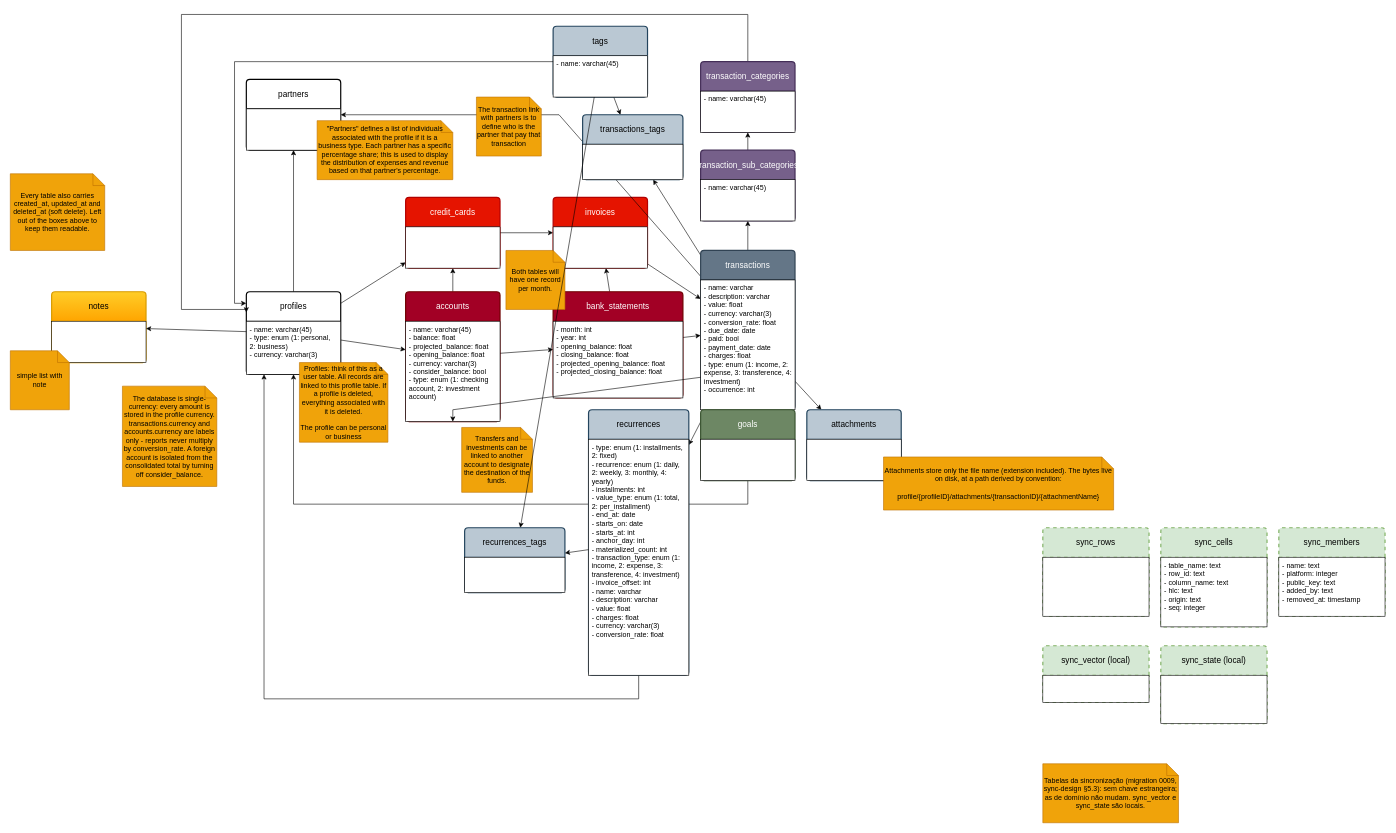
Some shapes in this 1396 by 833 pixel diagram are drawn without their labels. Each missing label, with the centre of its shape:
- device_id: text - group_id: text - hlc: text - next_seq: integer: the point at 1213,699
- month: int - year: int - balance: float: the point at 600,247
- name: varchar: the point at 853,460
- name: varchar(100) - percentage: float: the point at 293,129
- name: varchar(45) - limit_value: float - closing_date: int - due_date: int: the point at 452,247
- name: varchar(45) - value: float - target_date: date: the point at 747,460
- note: text: the point at 98,342
- origin: text - seq: integer: the point at 1095,688
- recurrence_id: uuid - tag_id: uuid: the point at 514,575
- table_name: text - row_id: text - hlc: text - origin: text - seq: integer: the point at 1095,586
- transaction_id: uuid - tag_id: uuid: the point at 632,162
